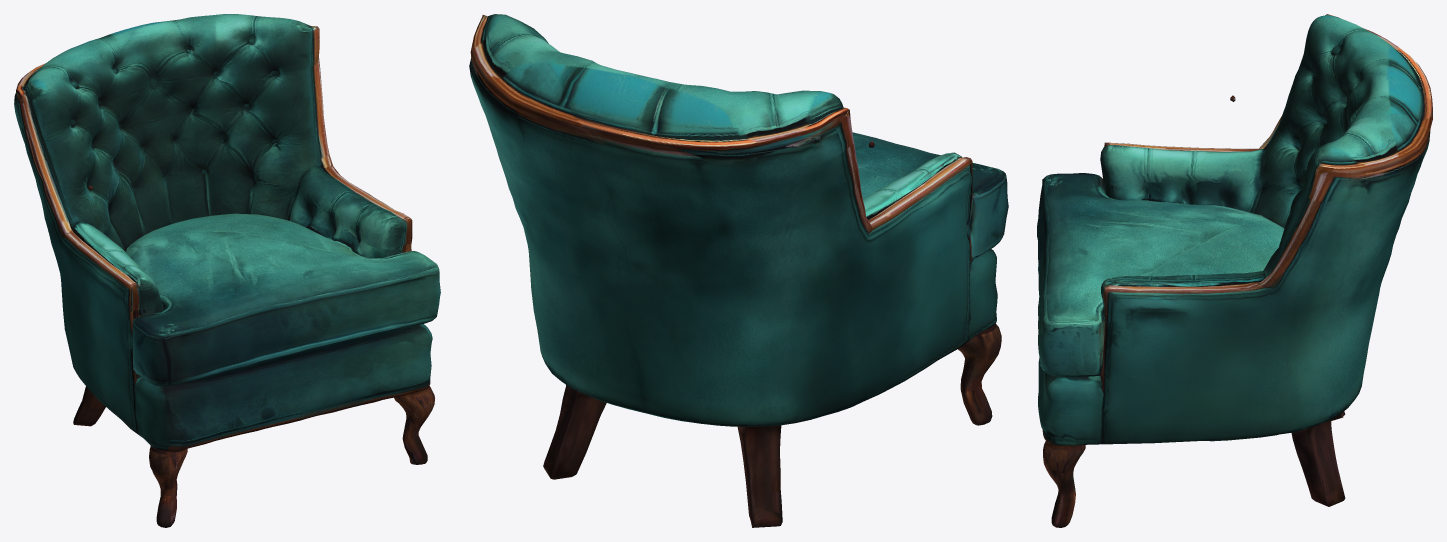
File: emerald_green_vintage_velvet_chair_0428035233_texture.glb
The picture shows the model from 3 angles, left to right: view 1: azimuth 30°, elevation 25°; view 2: azimuth 150°, elevation 25°; view 3: azimuth 270°, elevation 25°; orthographic projection. The views are drawn at different scales.
Parts seen in each view (by area): view 1: Mesh_0; view 2: Mesh_0; view 3: Mesh_0.
Part boxes in pixels (box(x1,y1,x2,y2)): Mesh_0: box(14, 14, 440, 527); Mesh_0: box(469, 14, 1008, 527); Mesh_0: box(1037, 14, 1432, 527).
Size of the model in its own units: 0.701 by 0.8128 by 0.7627.
Materials: 1 (1 with a texture image).
